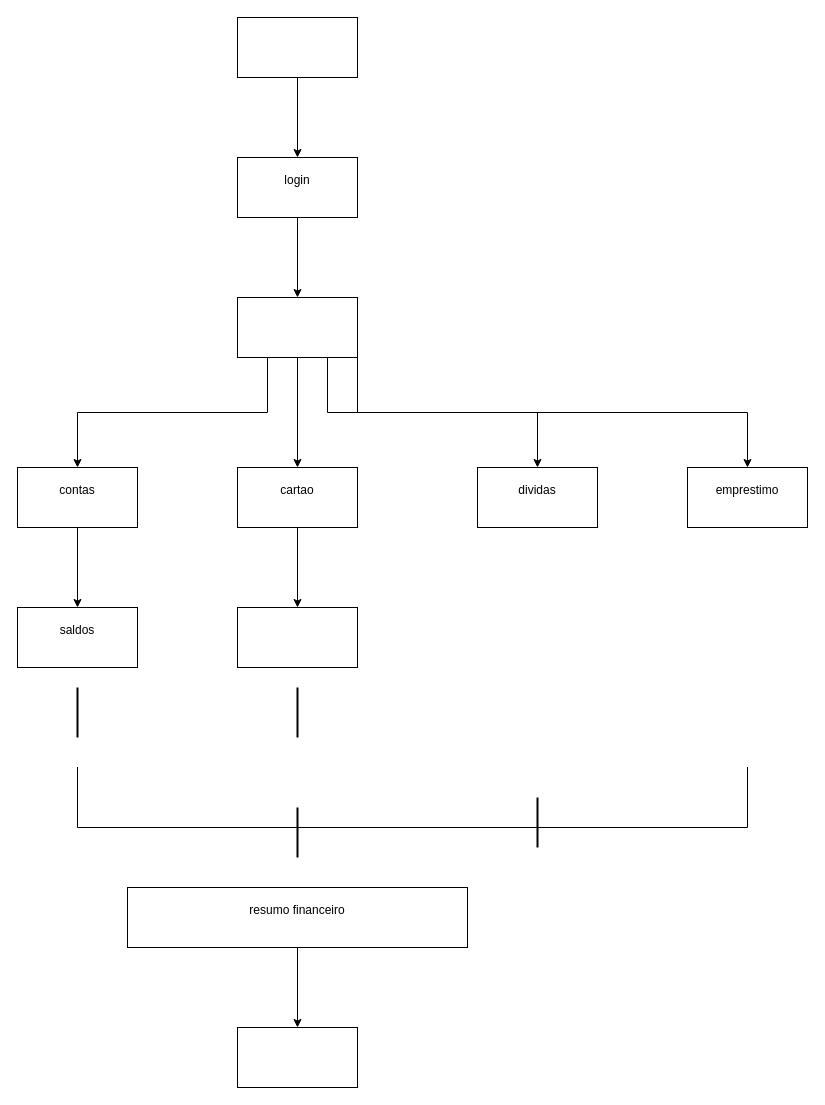
Some shapes in this 825 by 1105 pixel diagram are drawn without their labels. The shapes that lost their labels are listed below. From the top down, each one's centre as x and y in pixels, then its label:
At point 297,47: "Inicio".
At point 297,327: "dashboard".
At point 297,637: "fatura".
At point 297,1057: "fim".
